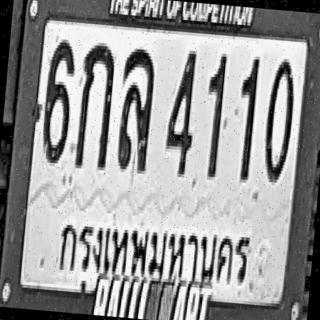A01: (74, 40, 116, 169)
A36: (115, 45, 157, 171)
N00: (261, 56, 297, 182)
N01: (233, 54, 260, 182), (200, 51, 227, 178)
N04: (163, 48, 199, 176)
N06: (40, 37, 76, 162)
P04: (53, 200, 256, 298)
